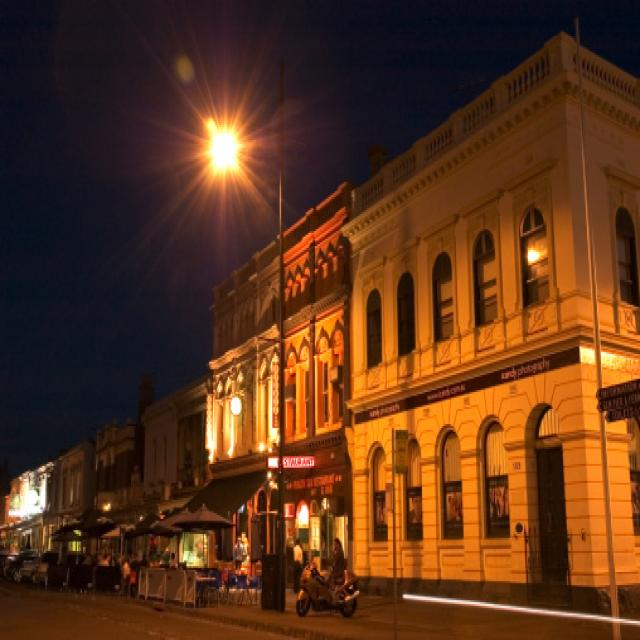Motorbike: (279, 534, 374, 620)
